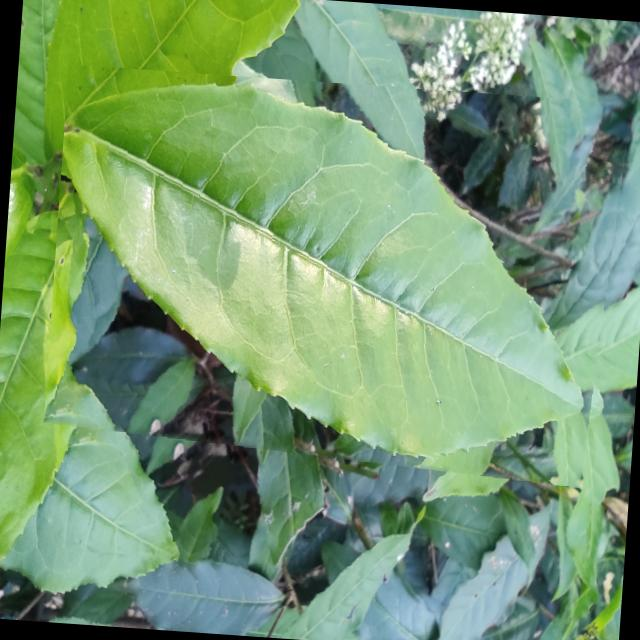Category D(7+ days, Not for Tea): (40, 64, 631, 489)
